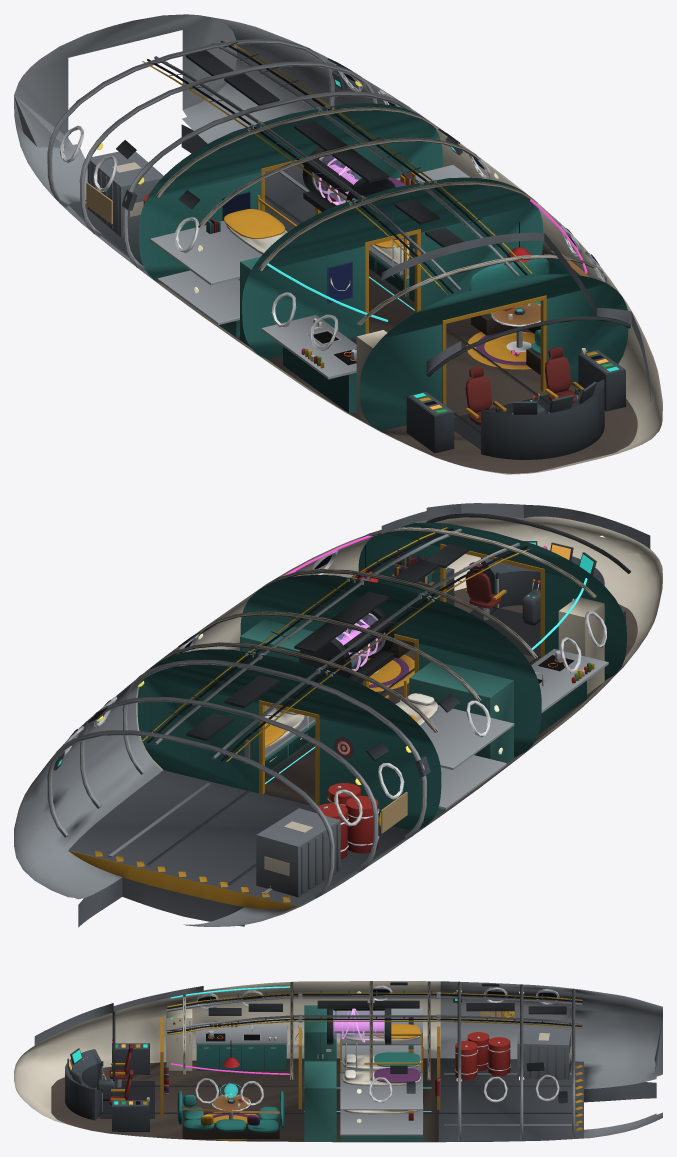
The model's file is vtol_interior.glb.
The picture shows the model from 3 angles, top to bottom: view 1: azimuth 30°, elevation 25°; view 2: azimuth 150°, elevation 25°; view 3: azimuth 270°, elevation 25°; orthographic projection. The views are drawn at different scales.
Visible parts, largest first — view 1: interior; view 2: interior; view 3: interior.
Boxes of the visible parts, x1,y1,x2,y2 form: interior: (14,14,662,474); interior: (14,503,662,927); interior: (14,981,662,1142).
Bounding box in the file's own units: 6.96 × 3.91 × 18.76.
